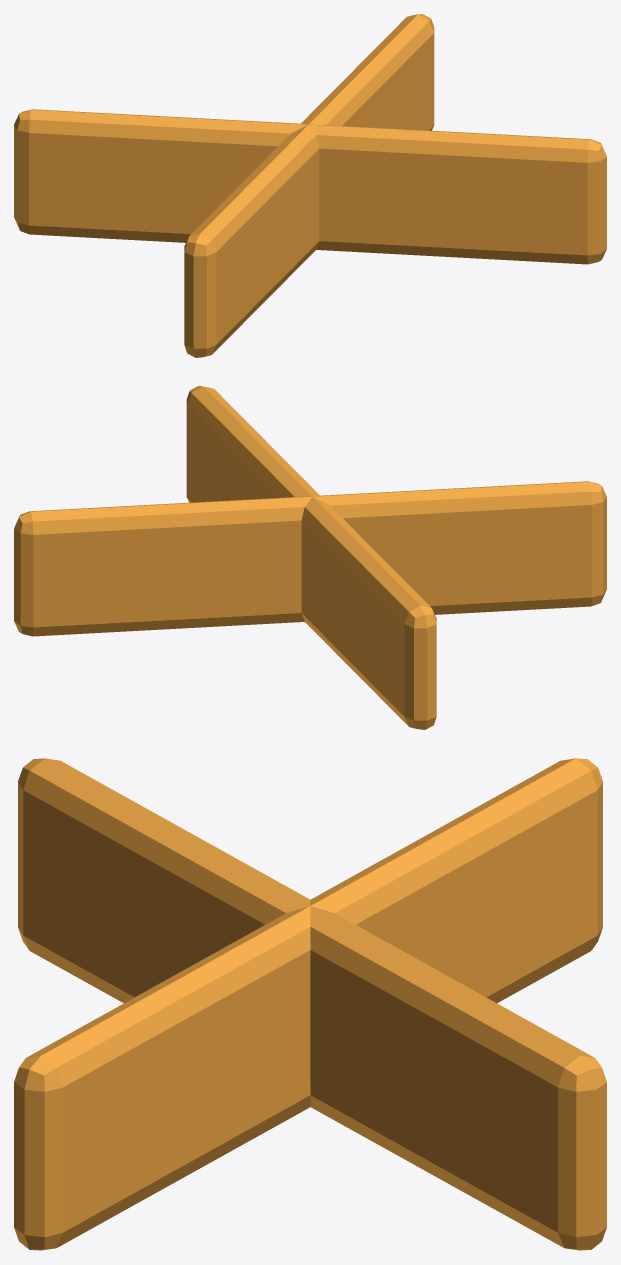
Rendered from Repair_TapeCross.glb.
The picture shows the model from 3 angles, top to bottom: view 1: azimuth 30°, elevation 25°; view 2: azimuth 150°, elevation 25°; view 3: azimuth 270°, elevation 25°; orthographic projection. The views are drawn at different scales.
Parts seen in each view (by area): view 1: Repair_TapeCross_Second, Repair_TapeCross; view 2: Repair_TapeCross, Repair_TapeCross_Second; view 3: Repair_TapeCross_Second, Repair_TapeCross.
Boxes of the visible parts, bbox=[...] form: Repair_TapeCross_Second: bbox=[14, 109, 606, 264]; Repair_TapeCross: bbox=[184, 14, 434, 357]; Repair_TapeCross: bbox=[14, 481, 606, 636]; Repair_TapeCross_Second: bbox=[186, 386, 436, 729]; Repair_TapeCross_Second: bbox=[14, 758, 602, 1250]; Repair_TapeCross: bbox=[18, 758, 606, 1250].
Size of the model in its own units: 0.3876 by 0.11 by 0.3033.
